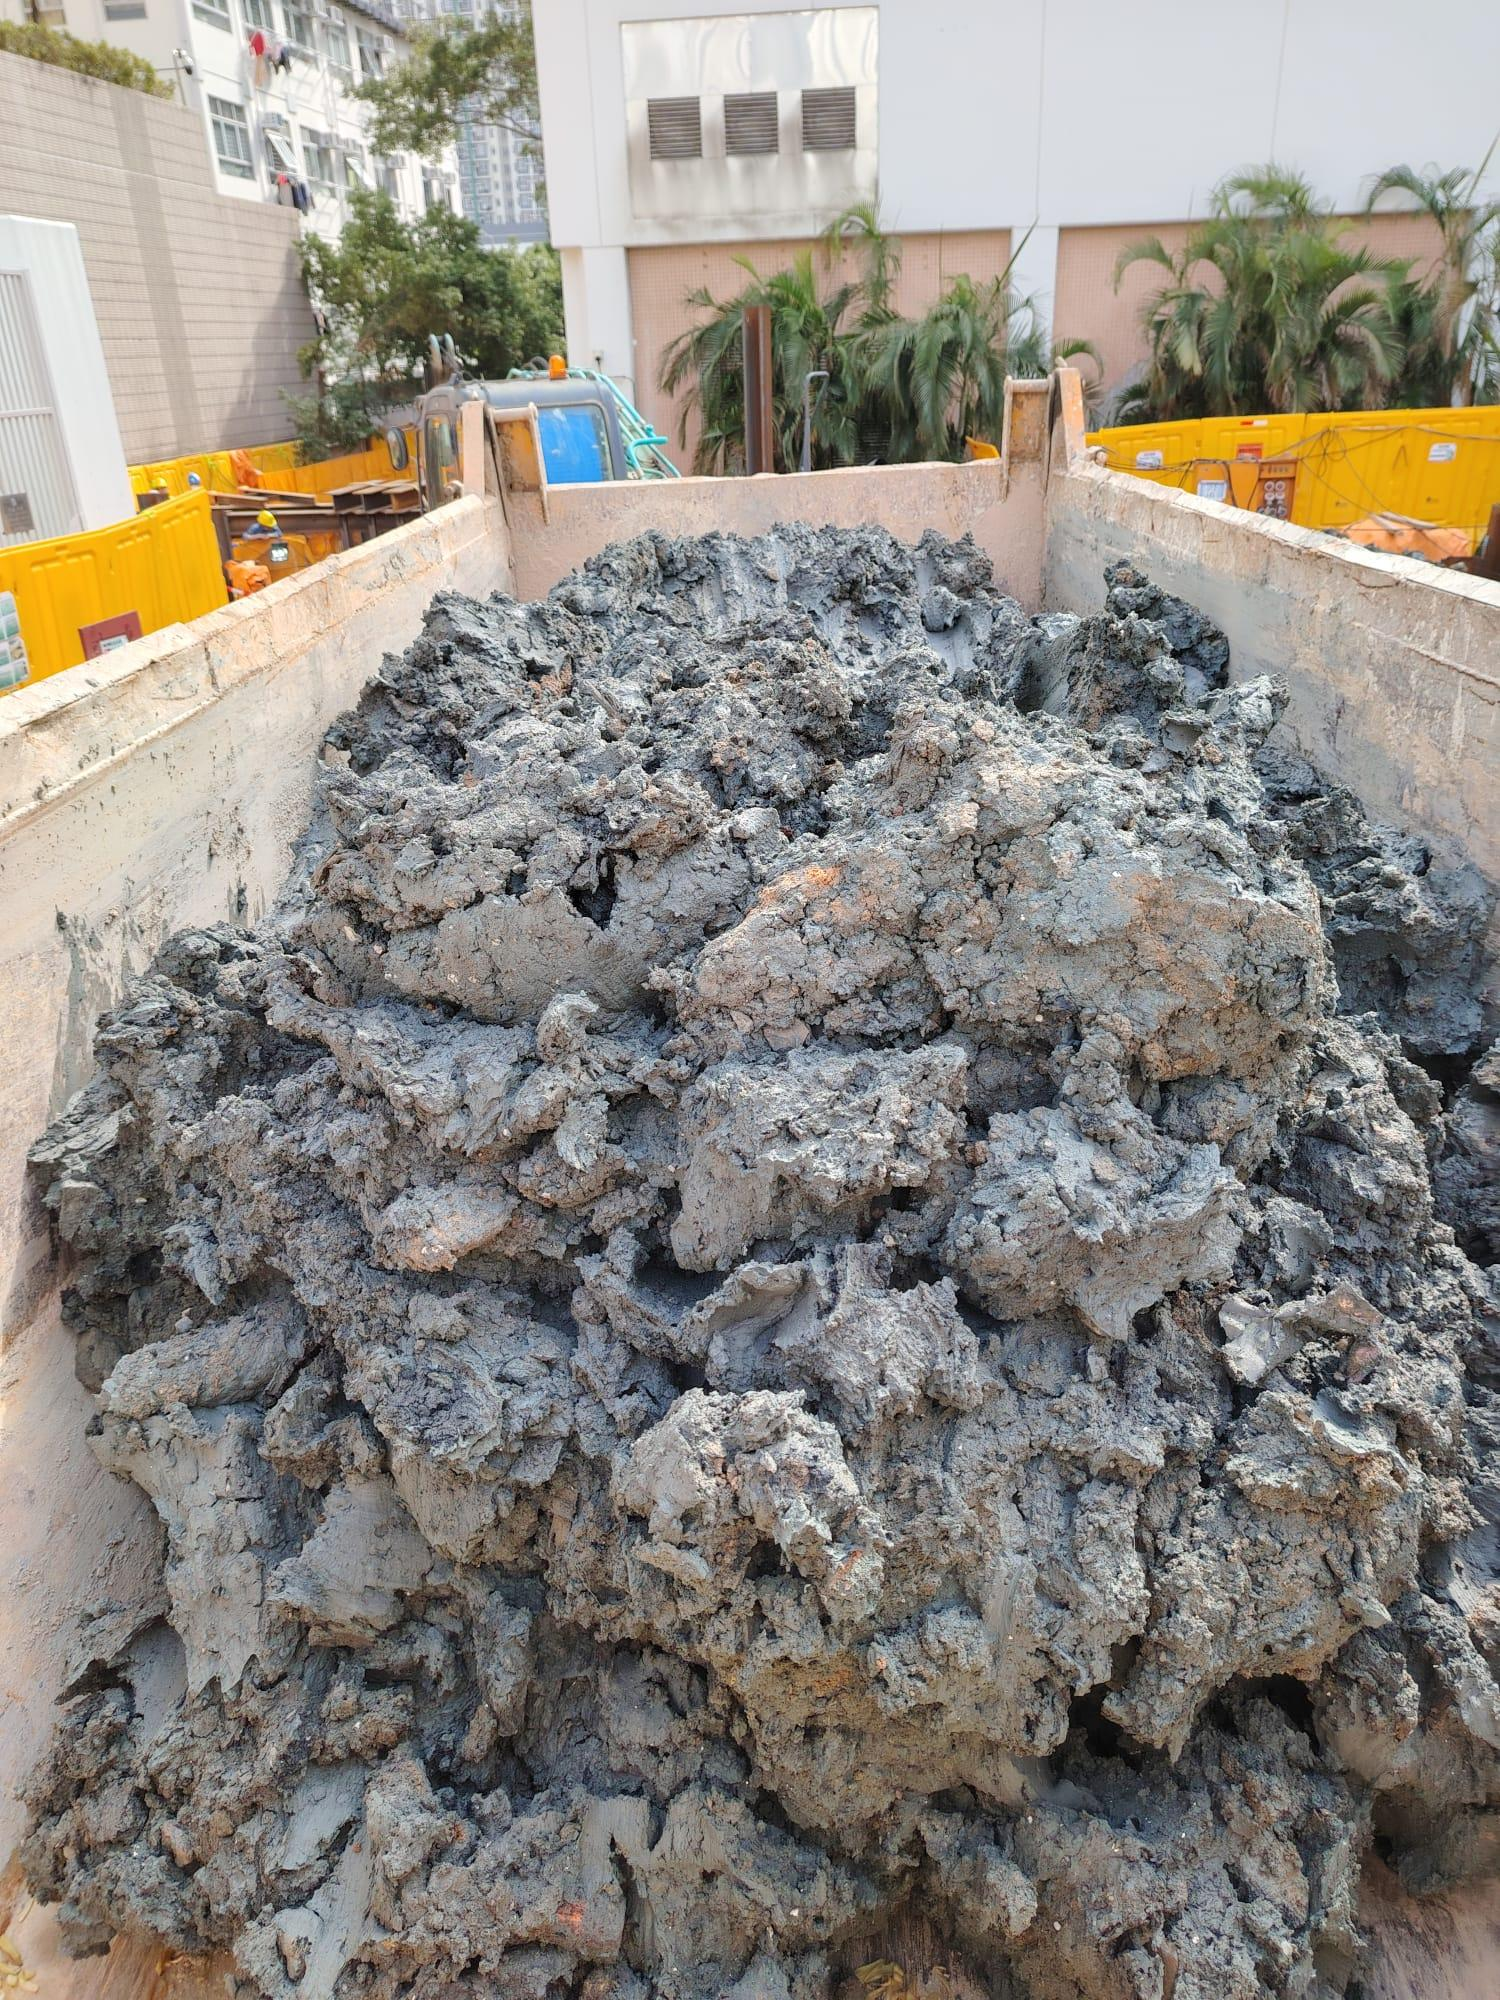wet: (27, 520, 1487, 1987)
